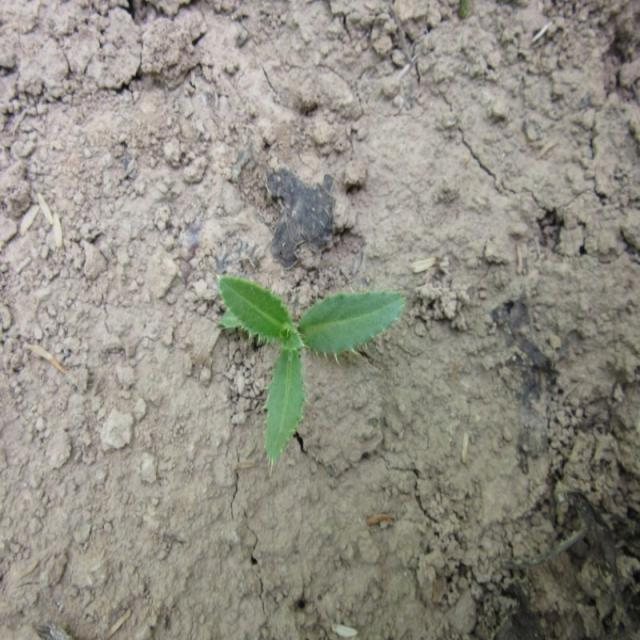cs: (212, 267, 412, 469)
